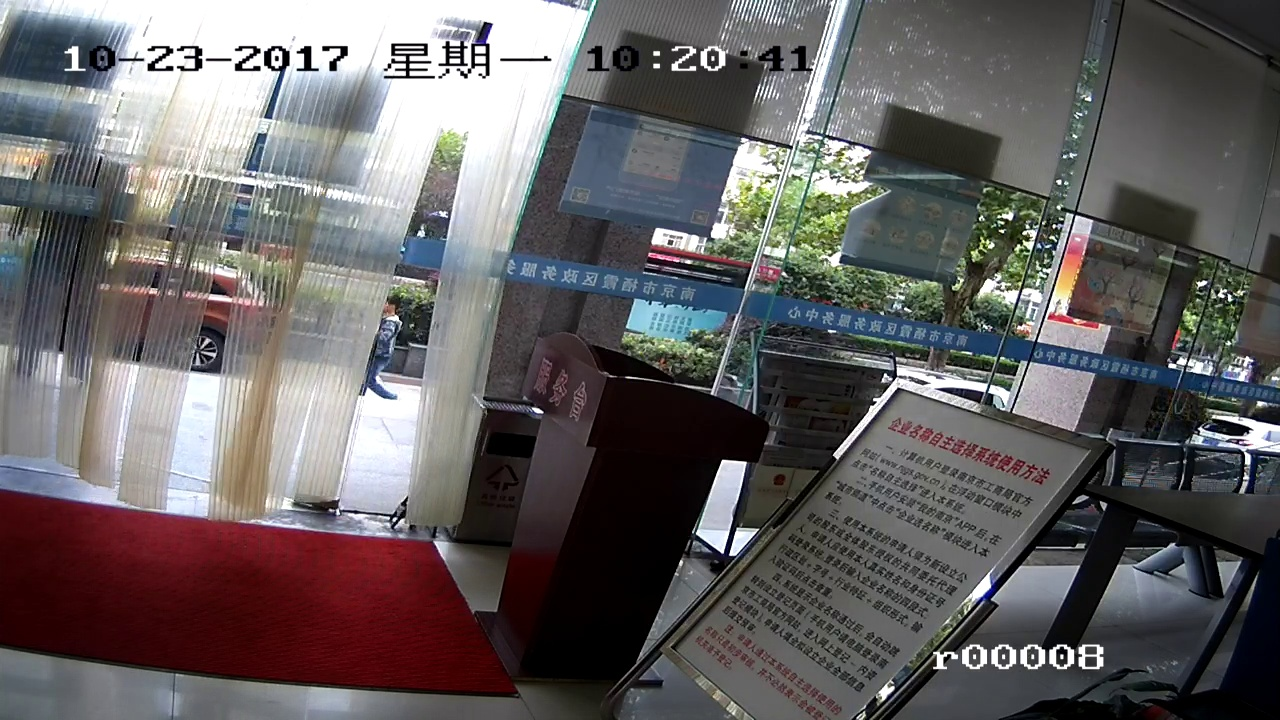billboard: (753, 387, 1011, 692)
desk: (507, 336, 655, 672)
